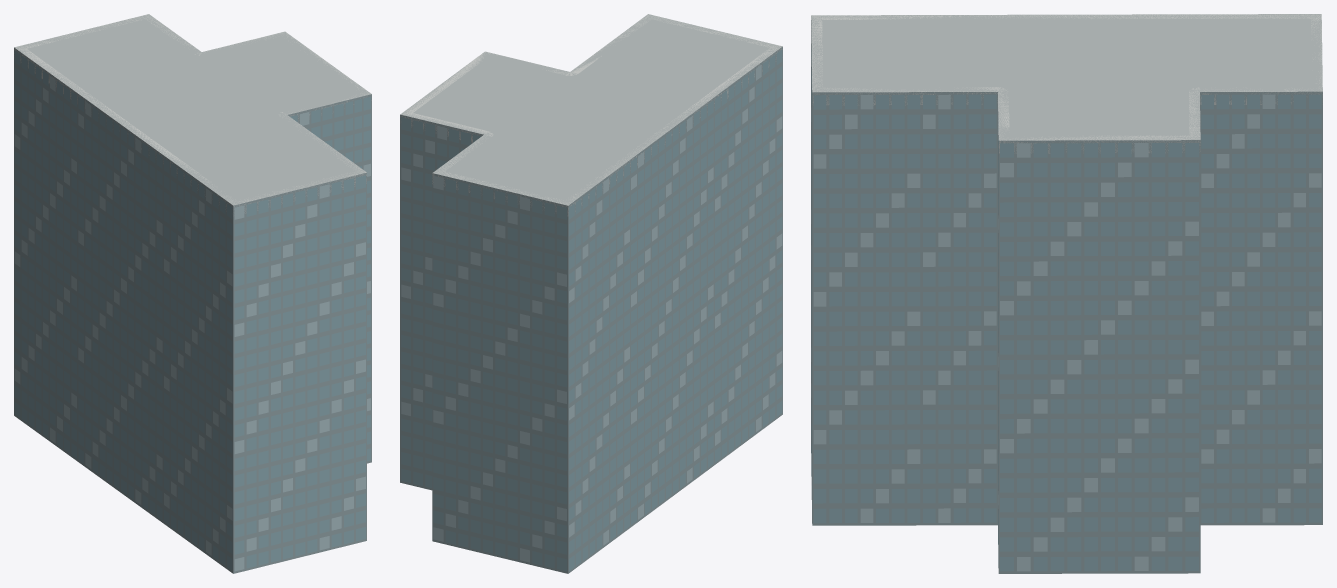
The model's file is civic-51c059a0-2296-480b-9f0b-0ada6531e06c.glb.
3 views of the same model, side by side, from view 1: azimuth 30°, elevation 25°; view 2: azimuth 150°, elevation 25°; view 3: azimuth 270°, elevation 25° (orthographic). The views are drawn at different scales.
Parts seen in each view (by area): view 1: civic-51c059a0-2296-480b-9f0b-0ada6531e06c; view 2: civic-51c059a0-2296-480b-9f0b-0ada6531e06c; view 3: civic-51c059a0-2296-480b-9f0b-0ada6531e06c.
Part boxes in pixels (x1,y1,x2,y2): civic-51c059a0-2296-480b-9f0b-0ada6531e06c: (14, 14, 371, 573); civic-51c059a0-2296-480b-9f0b-0ada6531e06c: (400, 14, 782, 573); civic-51c059a0-2296-480b-9f0b-0ada6531e06c: (811, 14, 1322, 573).
Bounding box in the file's own units: 54.6 × 87.1 × 93.24.
